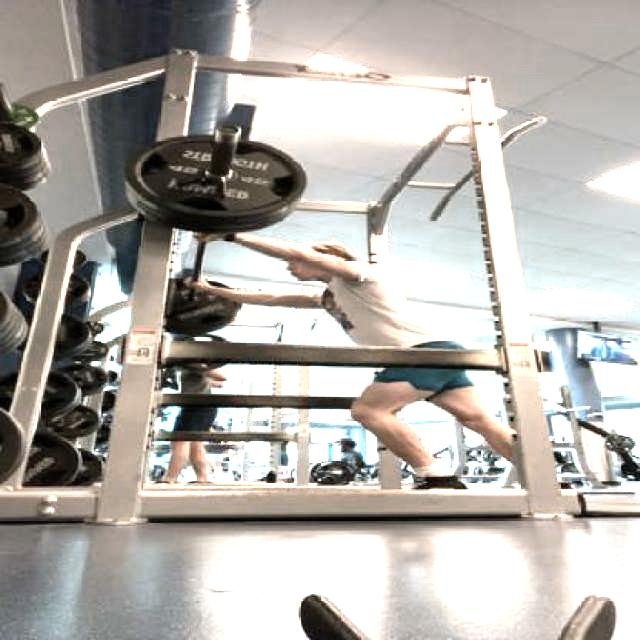barbell: (115, 118, 312, 241)
